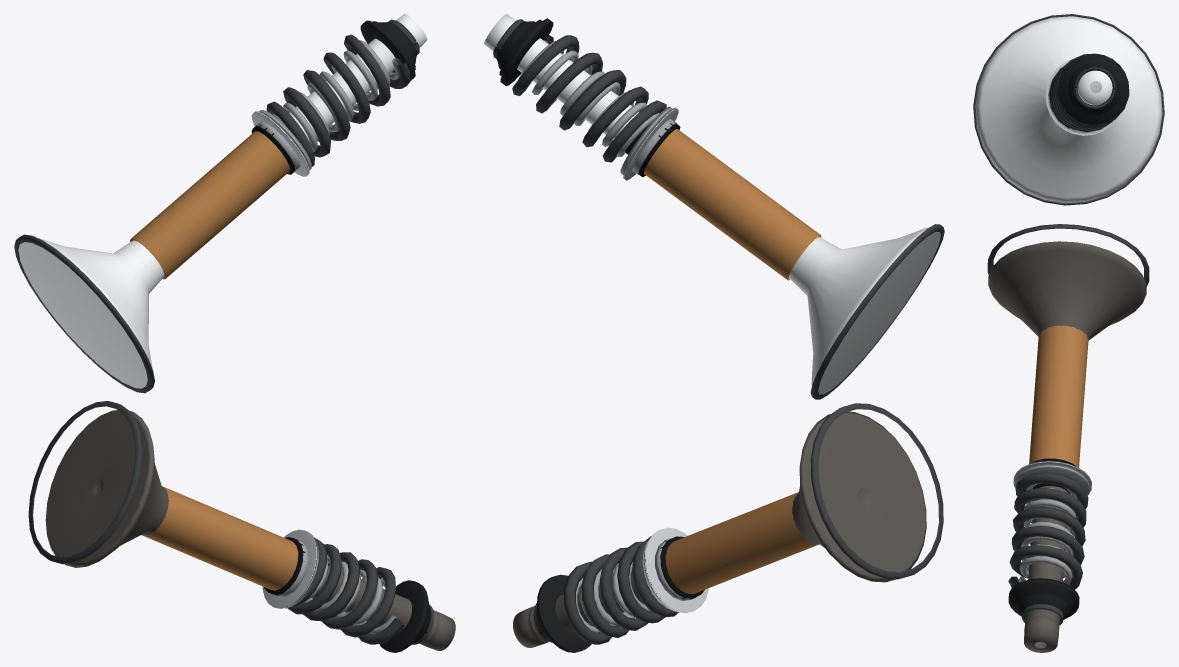
Rendered from valve-set-3.glb.
The picture shows the model from 3 angles, left to right: view 1: azimuth 30°, elevation 25°; view 2: azimuth 150°, elevation 25°; view 3: azimuth 270°, elevation 25°; orthographic projection. The views are drawn at different scales.
Parts seen in each view (by area): view 1: valve-set-3:bronze, valve-set-3:darkSteel, valve-set-3:heatSteel, valve-set-3:chrome, valve-set-3:steel, valve-set-3:satinBlack, valve-set-3:polishedSteel, valve-set-3:rubber; view 2: valve-set-3:bronze, valve-set-3:heatSteel, valve-set-3:darkSteel, valve-set-3:chrome, valve-set-3:steel, valve-set-3:satinBlack, valve-set-3:polishedSteel, valve-set-3:rubber; view 3: valve-set-3:chrome, valve-set-3:heatSteel, valve-set-3:darkSteel, valve-set-3:bronze, valve-set-3:satinBlack, valve-set-3:steel, valve-set-3:polishedSteel.
Boxes of the visible parts, x1,y1,x2,y2 form: valve-set-3:bronze: (130,131,298,590); valve-set-3:darkSteel: (14,19,433,644); valve-set-3:heatSteel: (45,410,455,650); valve-set-3:chrome: (18,14,427,388); valve-set-3:steel: (256,40,399,633); valve-set-3:satinBlack: (360,20,431,652); valve-set-3:polishedSteel: (251,111,317,608); valve-set-3:rubber: (251,124,305,595); valve-set-3:bronze: (643,129,821,593); valve-set-3:heatSteel: (513,411,926,647); valve-set-3:darkSteel: (493,19,944,644); valve-set-3:chrome: (484,14,940,394); valve-set-3:steel: (519,40,696,632); valve-set-3:satinBlack: (496,18,593,652); valve-set-3:polishedSteel: (623,107,708,613); valve-set-3:rubber: (625,122,704,599); valve-set-3:chrome: (975,16,1162,203); valve-set-3:heatSteel: (988,241,1146,652); valve-set-3:darkSteel: (973,14,1164,624); valve-set-3:bronze: (1029,325,1088,467); valve-set-3:satinBlack: (1008,53,1129,620); valve-set-3:steel: (1015,66,1109,584); valve-set-3:polishedSteel: (1013,60,1118,494).
Size of the model in its own units: 112 by 166 by 49.5.
